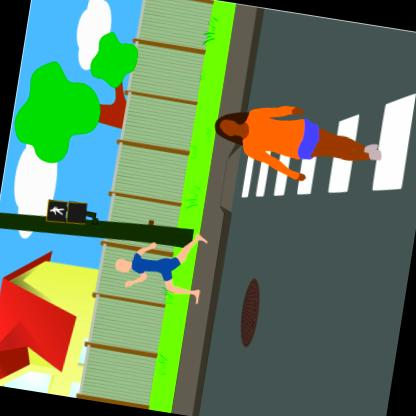manholes: (227, 269, 269, 355)
